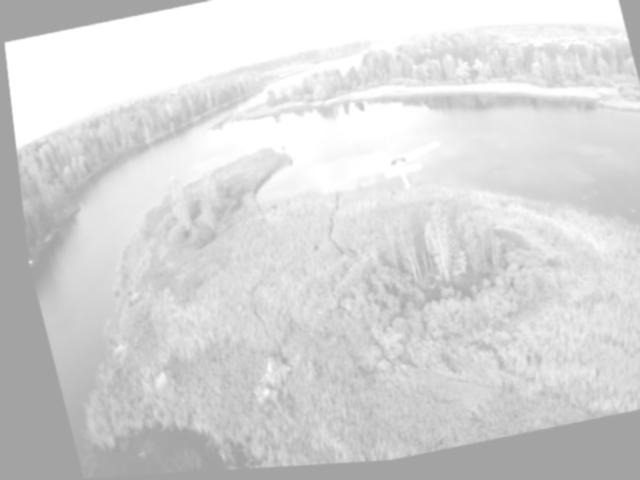hedef: (334, 139, 451, 206)
